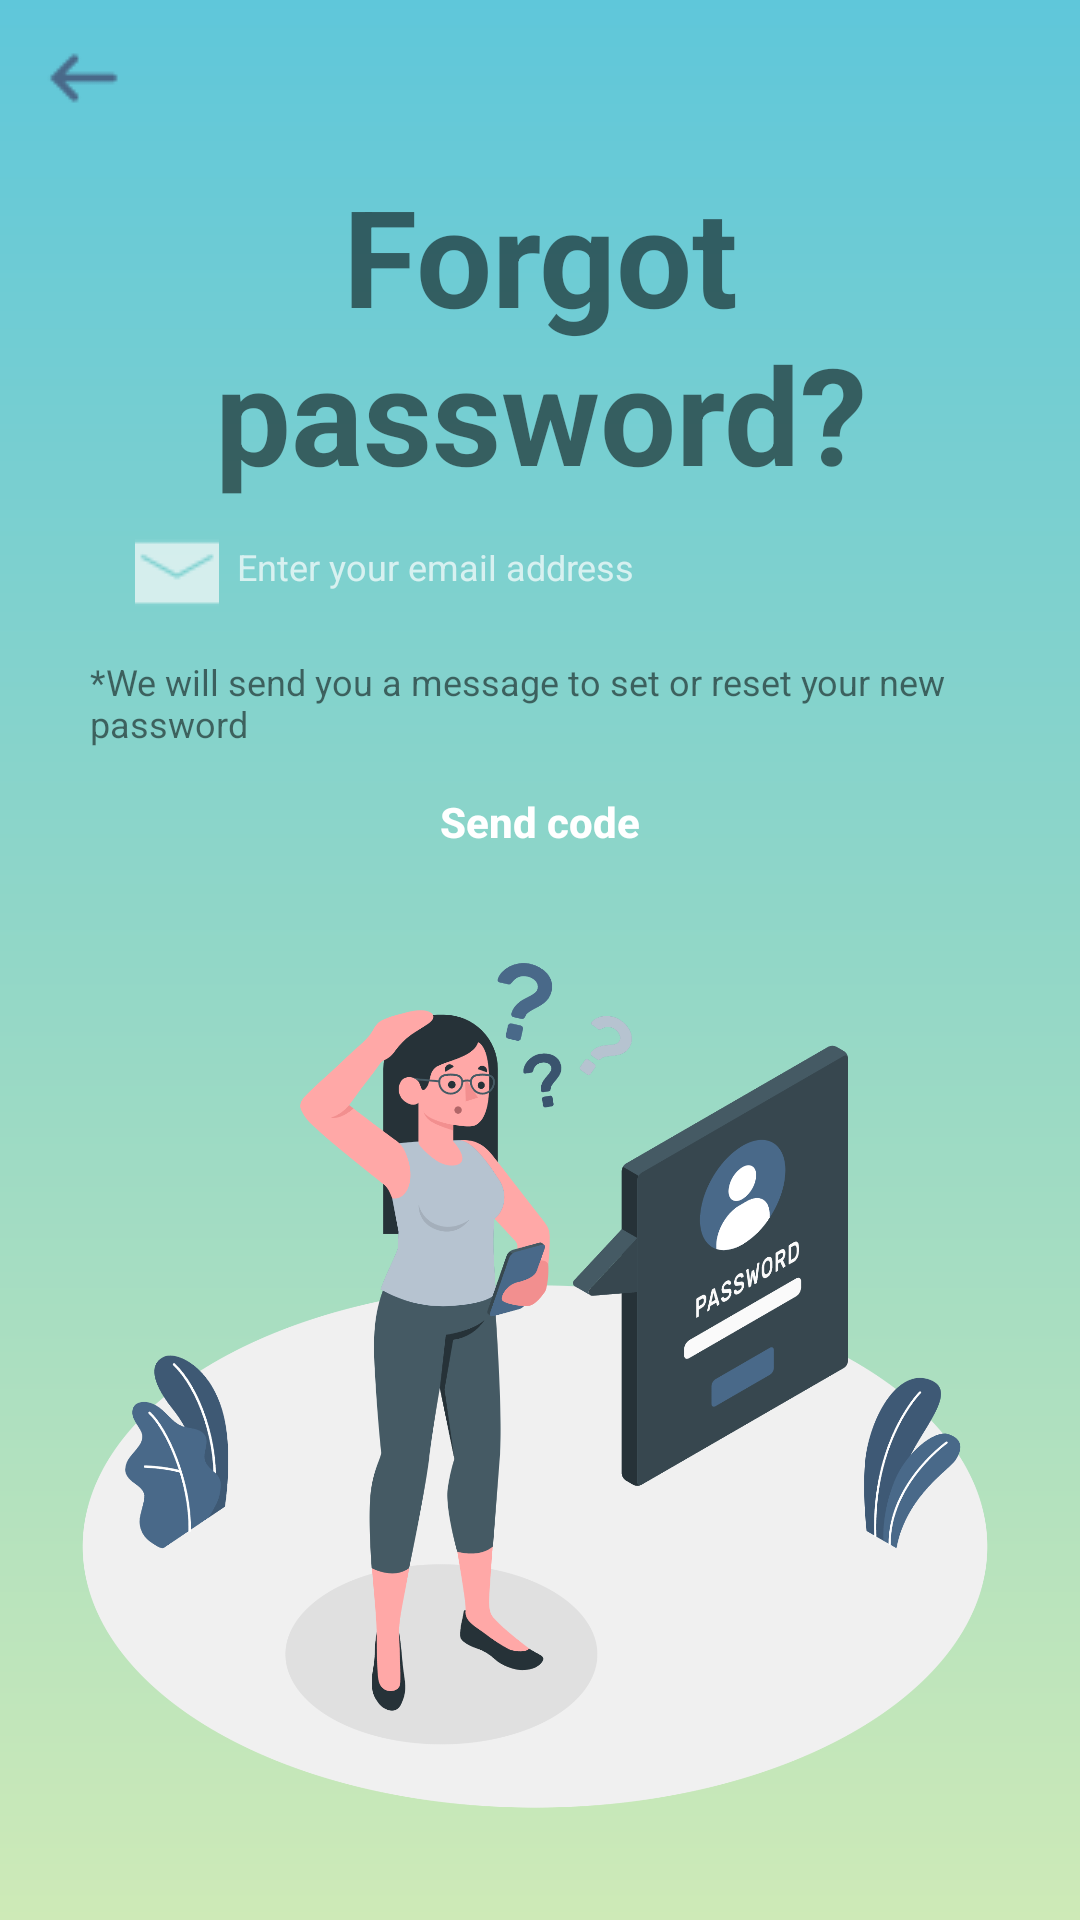

Icon click points for this 1080 x 1920 phone screenshot, format (x,y):
left: (84,78)
